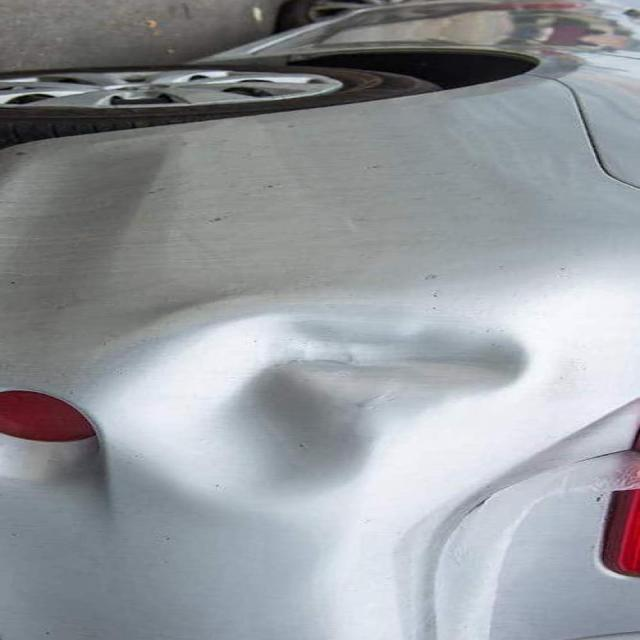dent: (75, 280, 548, 510)
